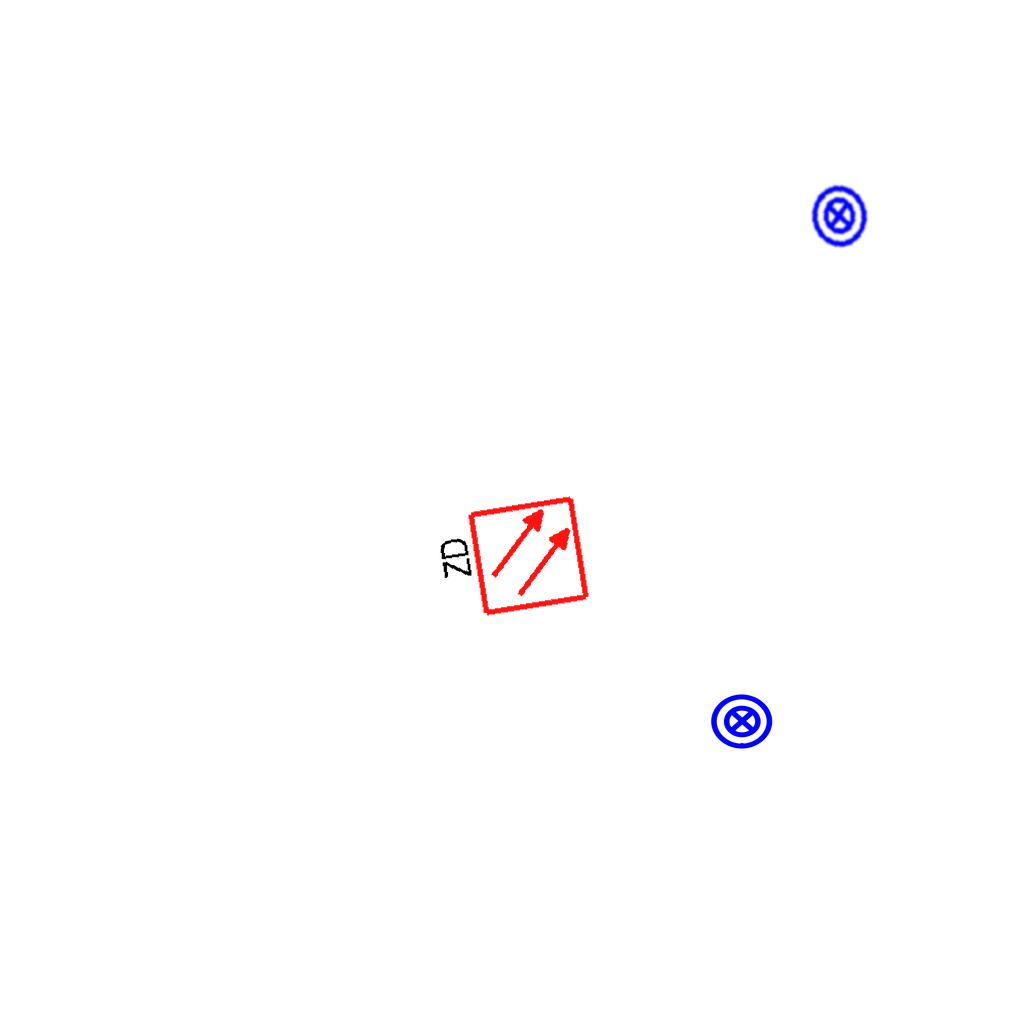Taster_beleuchtet: (802, 179, 876, 253), (709, 688, 775, 754)
ZD_Melder_in_Zwischendecke_mit_Revisionsoeffnung_mind_40_x_40_cm: (427, 492, 593, 629)
